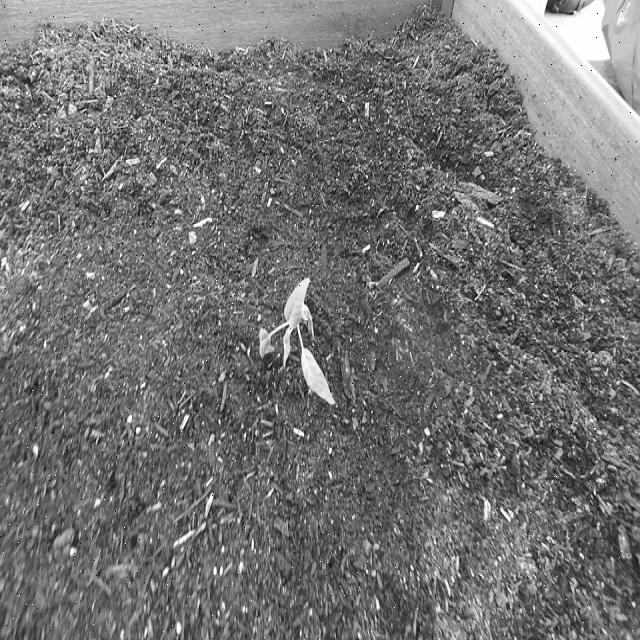Healthy: (256, 268, 340, 412)
